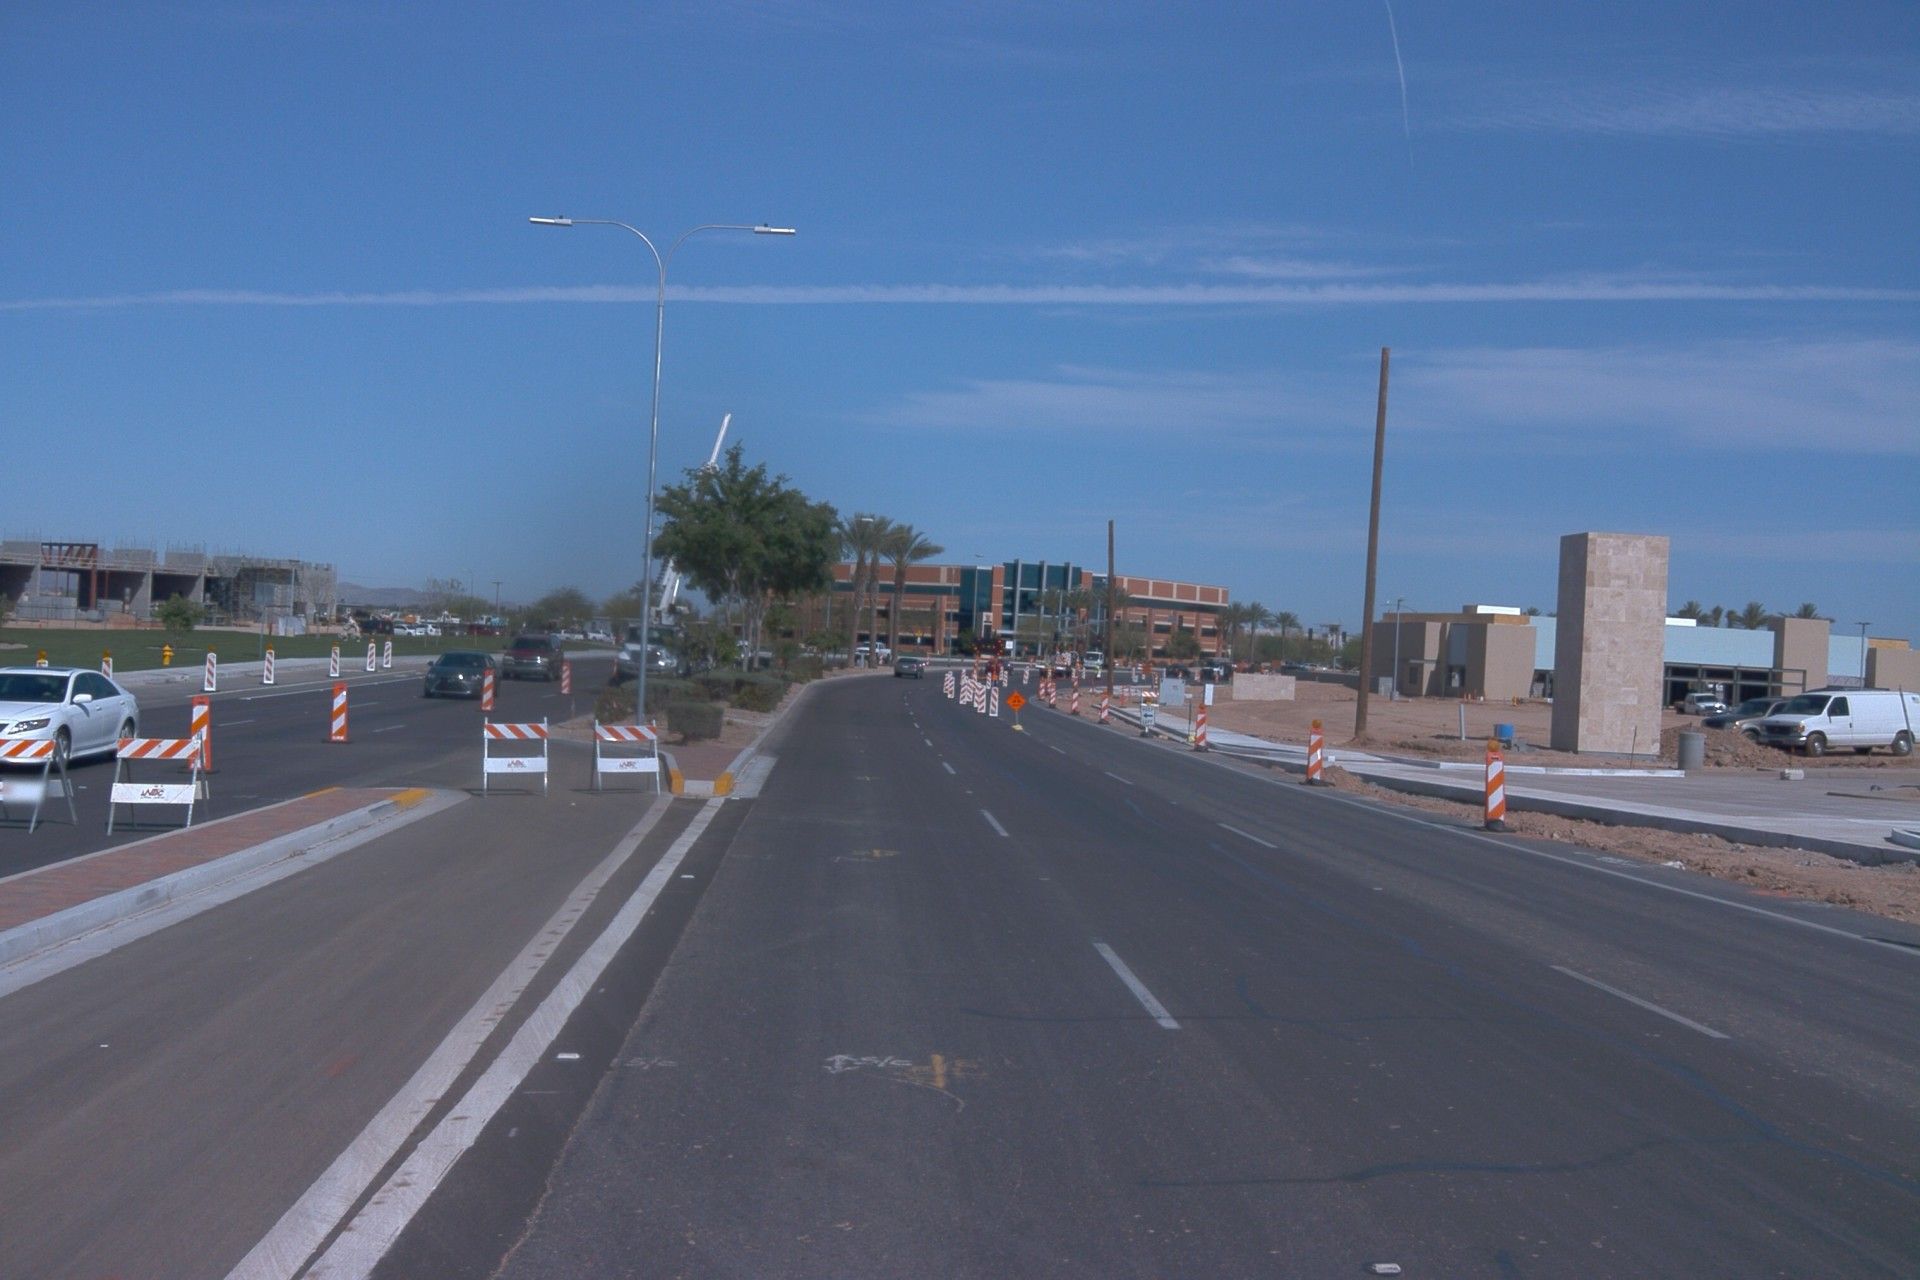TYPE_PEDESTRIAN: (1094, 663, 1101, 677)
TYPE_VEHICLE: (601, 403, 739, 699), (1, 663, 141, 772), (1755, 688, 1920, 759), (1699, 696, 1792, 744), (495, 628, 569, 687), (424, 650, 503, 700), (967, 632, 1010, 686), (1673, 686, 1726, 718), (1032, 645, 1081, 678), (1199, 657, 1251, 685), (1082, 646, 1119, 675), (852, 640, 893, 665), (465, 622, 509, 641), (892, 656, 925, 681), (340, 607, 382, 625), (355, 616, 394, 635), (545, 627, 583, 646), (439, 620, 475, 639), (393, 622, 426, 638), (413, 622, 442, 639), (150, 597, 170, 620), (995, 657, 1016, 678), (1276, 663, 1306, 675)
